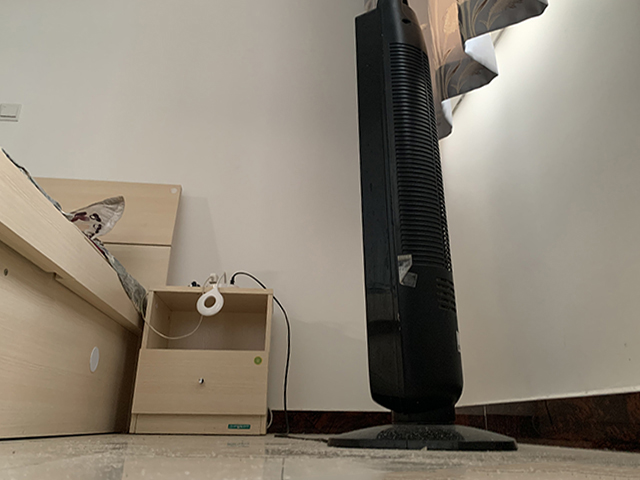bed: (1, 145, 186, 443)
cabinet: (127, 281, 273, 438)
wire: (230, 270, 328, 444)
